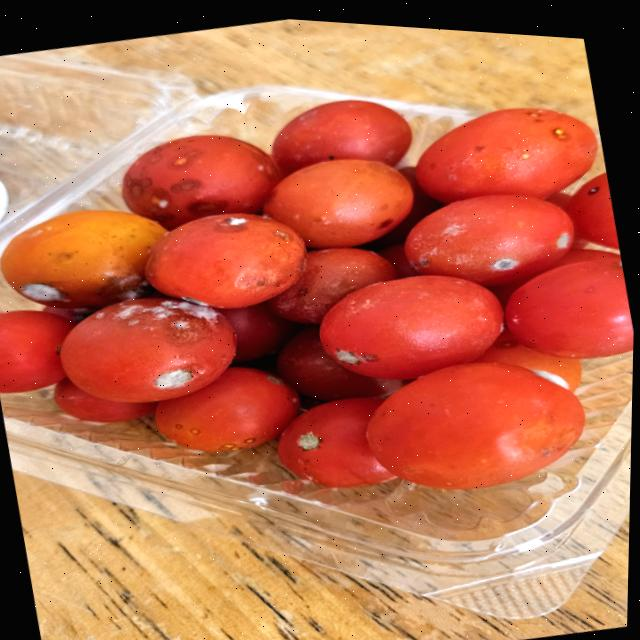rot_lvl1: (518, 419, 577, 457), (187, 196, 231, 216), (169, 148, 206, 171), (123, 176, 154, 199), (169, 177, 203, 195), (271, 229, 293, 244), (220, 442, 244, 452), (553, 128, 571, 141), (471, 143, 489, 153), (188, 427, 203, 438), (518, 152, 533, 162), (241, 437, 257, 444), (174, 423, 187, 428)
rot_lvl2: (113, 300, 221, 347), (148, 366, 197, 392), (20, 281, 75, 303), (334, 348, 382, 366), (531, 370, 571, 390), (294, 431, 326, 453), (214, 216, 251, 233), (490, 257, 521, 271), (442, 223, 467, 237), (150, 194, 172, 209), (374, 219, 397, 232), (555, 232, 570, 251), (418, 257, 435, 267), (587, 186, 601, 197), (93, 312, 109, 321)
